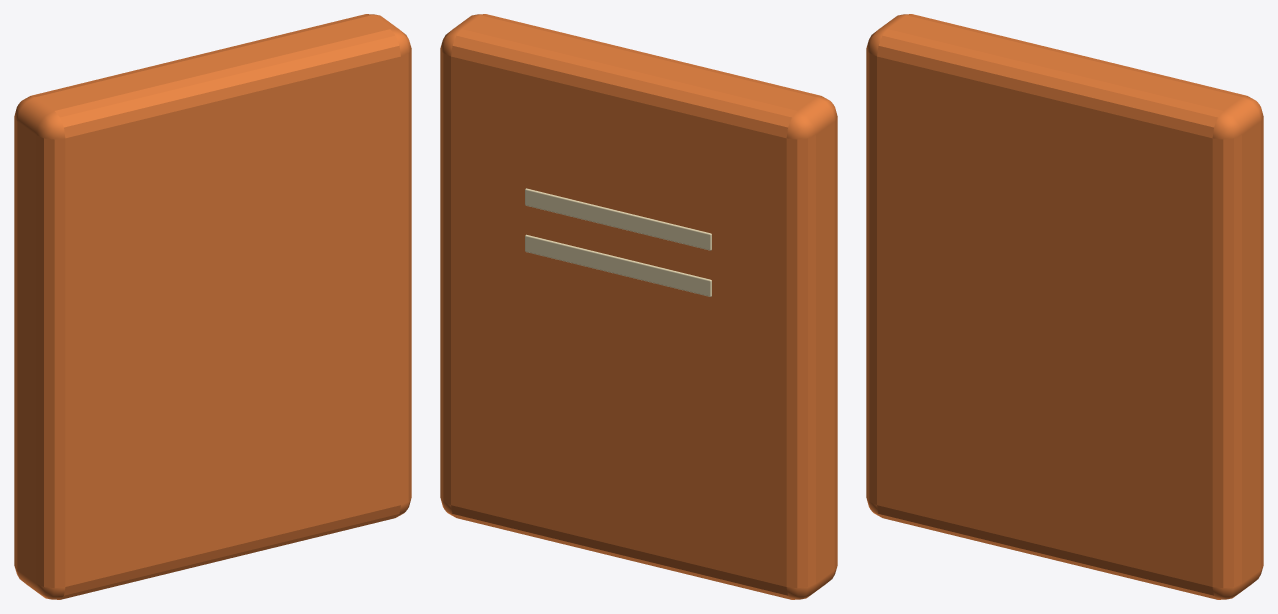
Rendered from paddle.glb.
3 views of the same model, side by side, from view 1: azimuth 30°, elevation 25°; view 2: azimuth 150°, elevation 25°; view 3: azimuth 330°, elevation 25° (orthographic).
Visible parts, largest first — view 1: paddle; view 2: paddle; view 3: paddle.
Boxes of the visible parts, x1,y1,x2,y2 form: paddle: (14,14,411,599); paddle: (440,14,837,599); paddle: (866,14,1263,599).
Bounding box in the file's own units: 0.016 × 0.02 × 0.00308.
